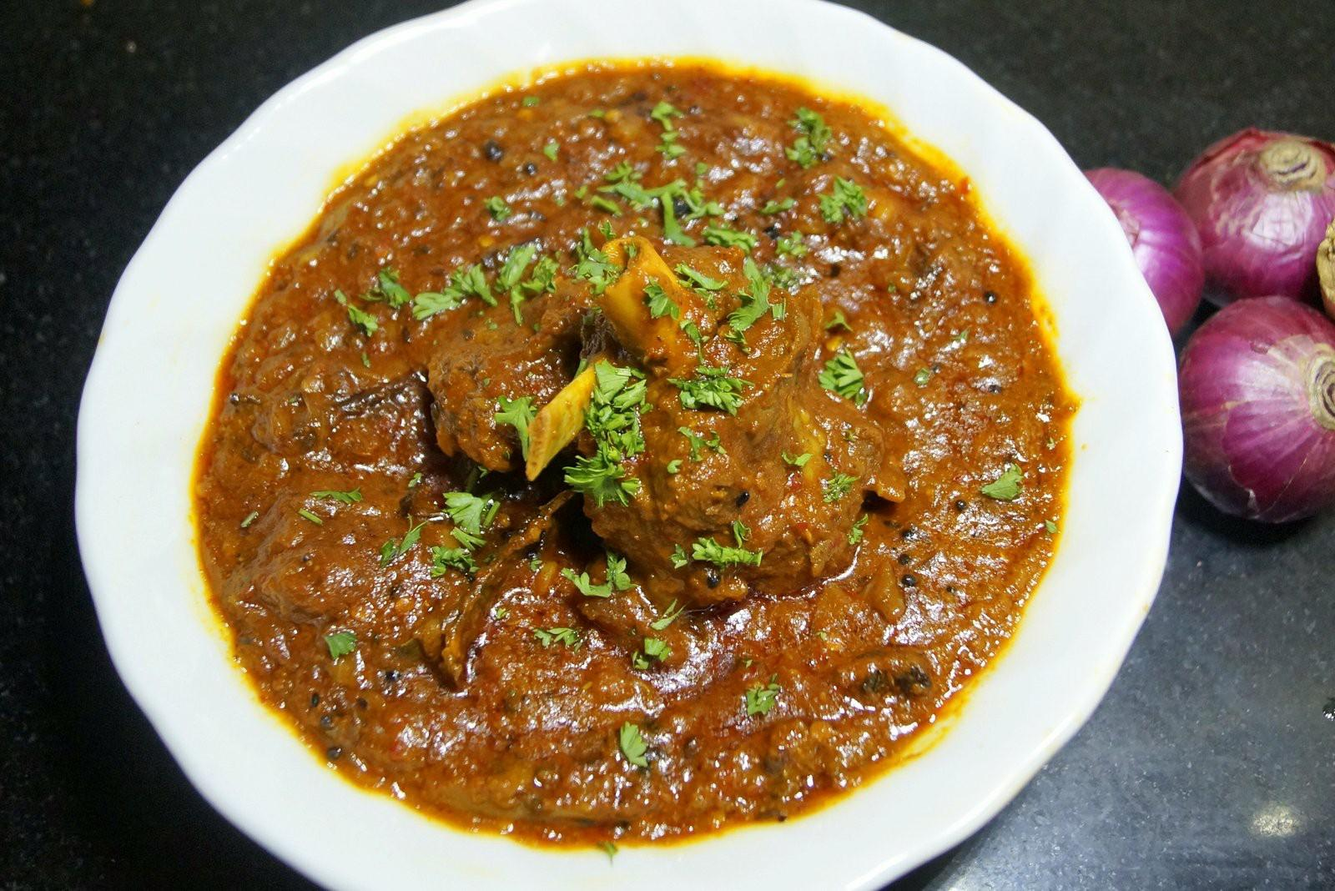MuttonCurry: (211, 67, 1060, 840)
